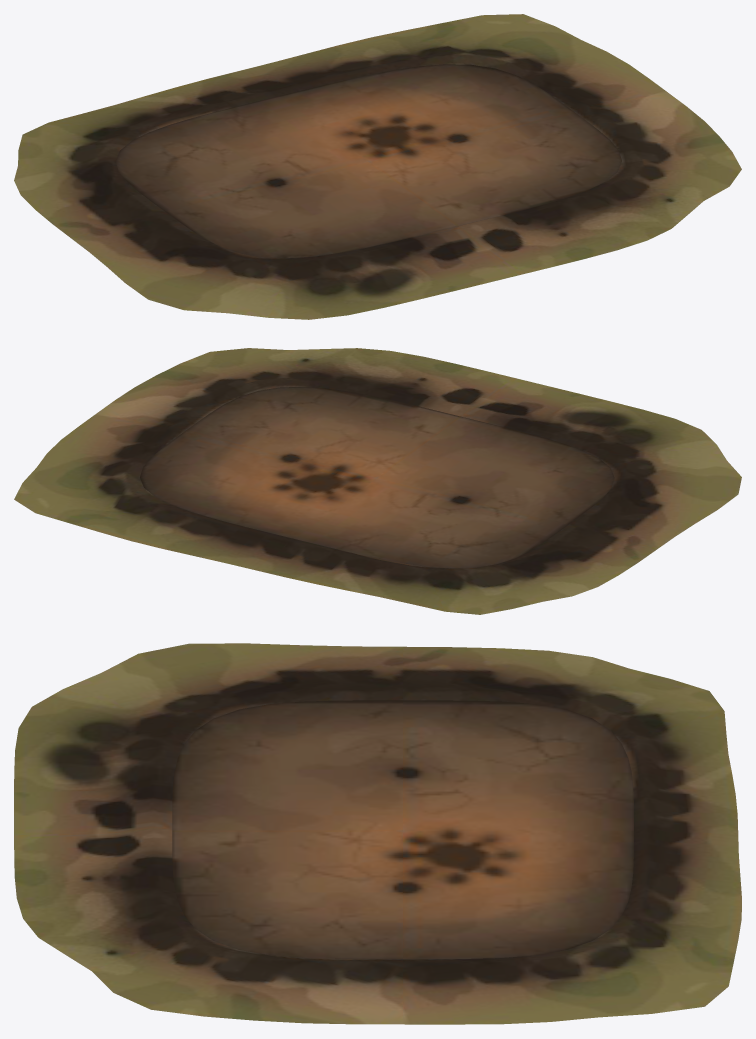
File: family_hall_floor.gltf
3 views of the same model, one above another, from view 1: azimuth 30°, elevation 25°; view 2: azimuth 150°, elevation 25°; view 3: azimuth 270°, elevation 25° (orthographic). The views are drawn at different scales.
Parts seen in each view (by area): view 1: family_hall_floor; view 2: family_hall_floor; view 3: family_hall_floor.
Boxes of the visible parts, left/top/right/bottom form: family_hall_floor: left=14, top=14, right=741, bottom=319; family_hall_floor: left=14, top=348, right=741, bottom=614; family_hall_floor: left=14, top=643, right=741, bottom=1024.
Size of the model in its own units: 5.16 by 0.0548 by 4.16.
2 materials, 2 textured.
